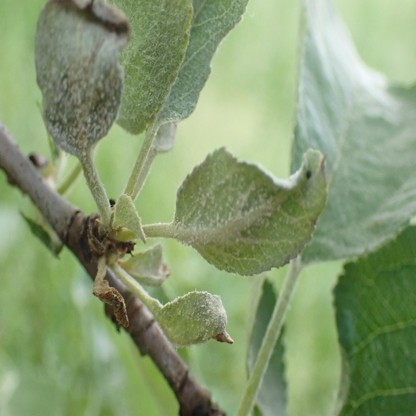powder: (176, 144, 330, 273), (35, 1, 132, 155), (158, 0, 248, 125), (115, 0, 193, 135), (160, 289, 235, 346), (123, 246, 171, 282), (112, 194, 146, 242), (153, 121, 177, 153)
